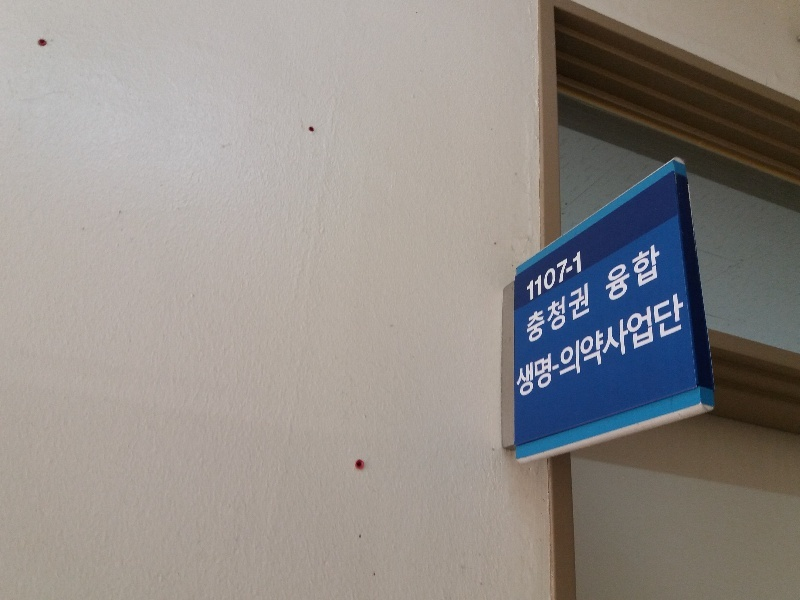text: (529, 289, 544, 403), (545, 289, 560, 403), (561, 289, 576, 403), (577, 289, 592, 403), (593, 289, 608, 403), (609, 289, 624, 403), (625, 289, 640, 403), (641, 289, 656, 403), (657, 289, 672, 403), (673, 289, 687, 403), (518, 289, 528, 403), (609, 240, 624, 308), (625, 240, 640, 308), (641, 240, 656, 308), (529, 280, 544, 347), (545, 280, 560, 347), (561, 280, 576, 347), (577, 280, 591, 347), (529, 248, 544, 305), (545, 248, 560, 305), (561, 248, 576, 305), (577, 248, 582, 305), (657, 240, 661, 308), (606, 240, 608, 308), (526, 248, 528, 305), (527, 280, 528, 347)
